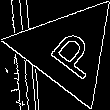P_NW: (34, 20, 100, 80)
